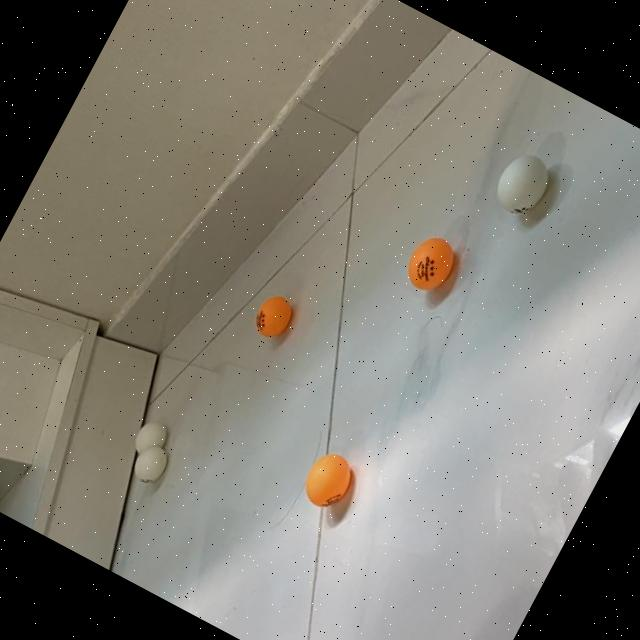ping-pong-ball: (485, 142, 561, 225), (397, 228, 462, 298), (296, 445, 360, 513), (249, 288, 297, 340), (129, 412, 174, 462), (129, 438, 174, 487)
